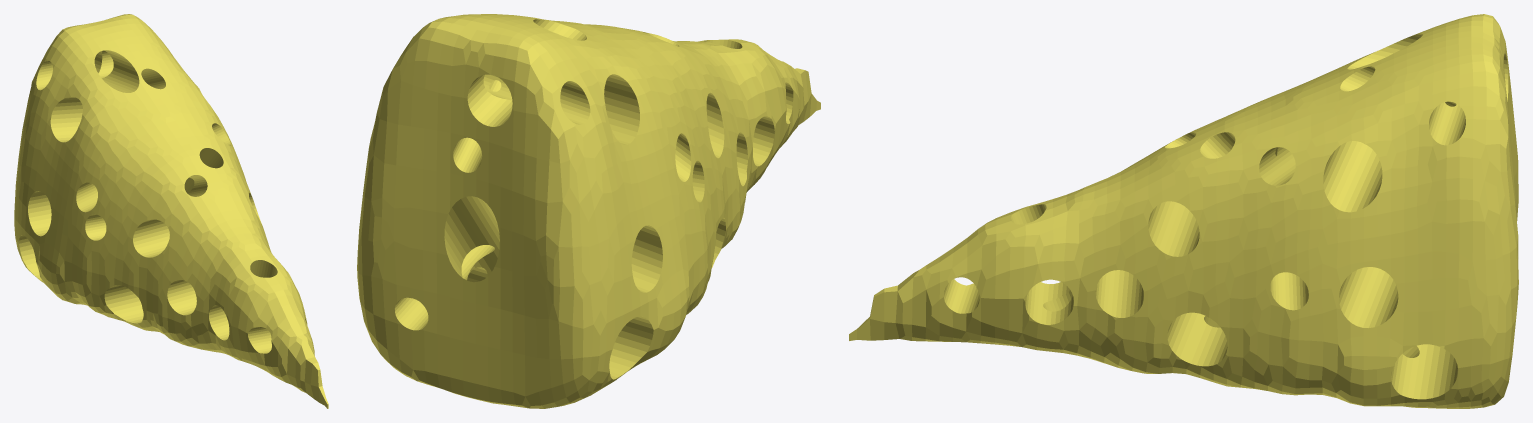
File: Cheese.fbx
The picture shows the model from 3 angles, left to right: view 1: azimuth 30°, elevation 25°; view 2: azimuth 150°, elevation 25°; view 3: azimuth 270°, elevation 25°; orthographic projection. The views are drawn at different scales.
Parts seen in each view (by area): view 1: Main Slice; view 2: Main Slice; view 3: Main Slice.
Part boxes in pixels (left/top/right/bottom): Main Slice: left=14, top=14, right=328, bottom=408; Main Slice: left=357, top=14, right=820, bottom=408; Main Slice: left=849, top=14, right=1518, bottom=408.
Bounding box in the file's own units: 428 × 554 × 978.
